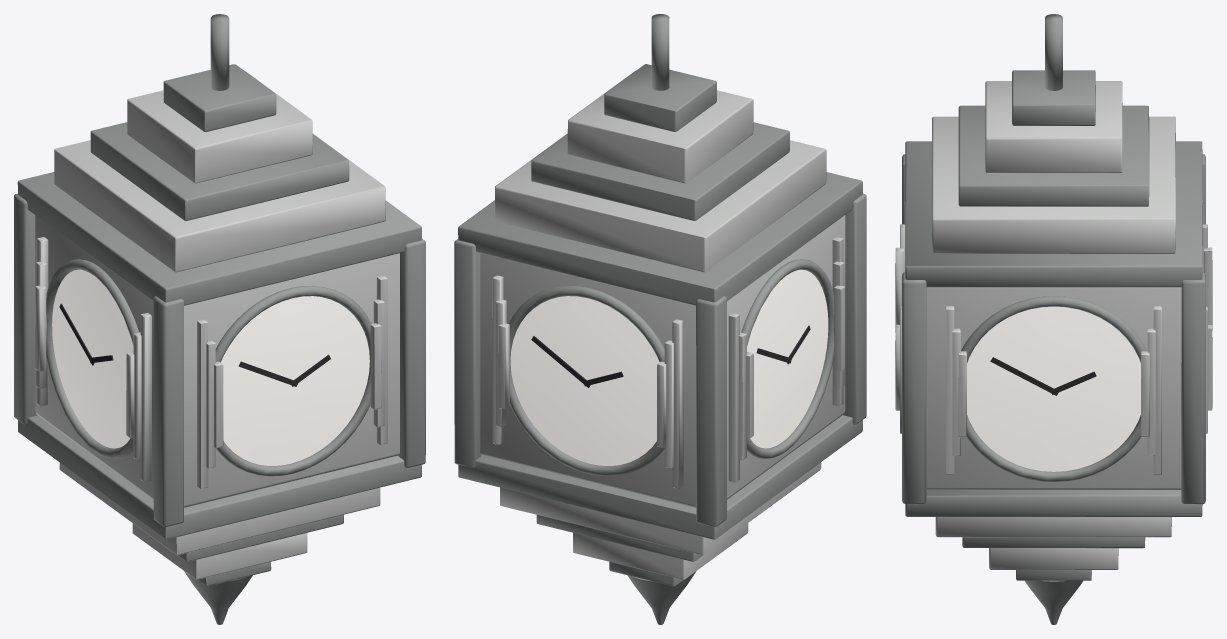
File: moynihan_clock.glb
3 views of the same model, side by side, from view 1: azimuth 30°, elevation 25°; view 2: azimuth 150°, elevation 25°; view 3: azimuth 270°, elevation 25° (orthographic).
Visible parts, largest first — view 1: Cube; view 2: Cube; view 3: Cube.
Boxes of the visible parts, x1,y1,x2,y2 form: Cube: (14,14,425,624); Cube: (454,14,866,624); Cube: (895,14,1212,624).
Bounding box in the file's own units: 2.08 × 4.38 × 2.08.
4 materials, 1 textured.
